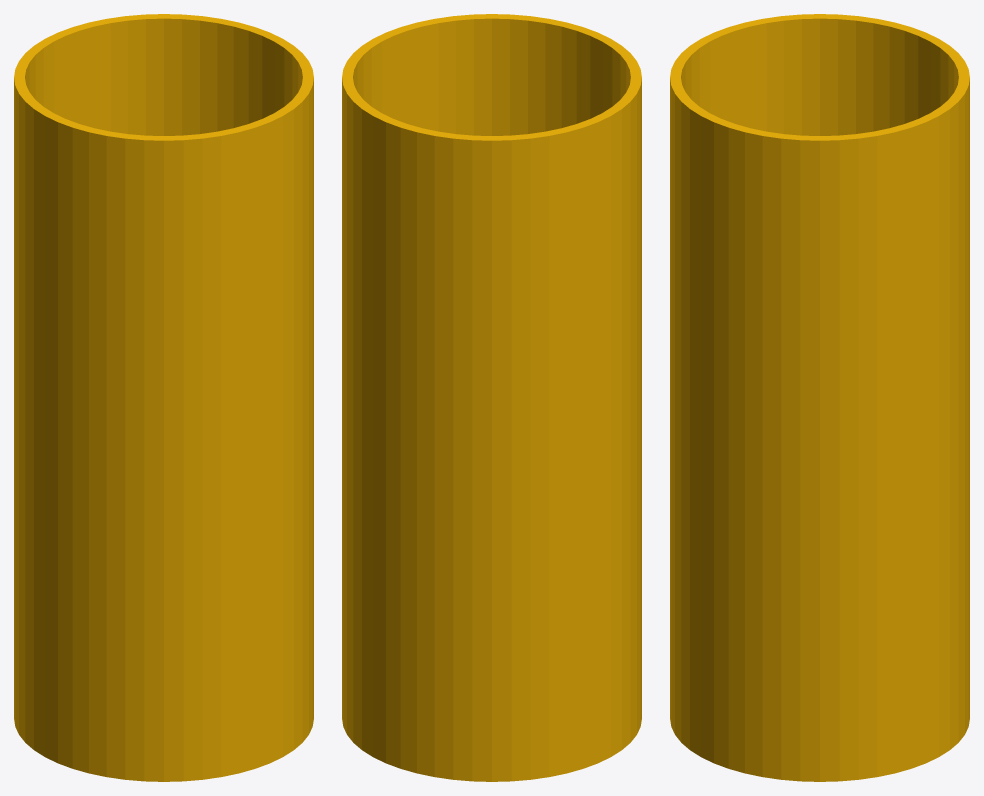
File: gate_pinger.dae
3 renders of one model, left to right at view 1: azimuth 30°, elevation 25°; view 2: azimuth 150°, elevation 25°; view 3: azimuth 270°, elevation 25°, orthographic.
Visible parts, largest first — view 1: node0; view 2: node0; view 3: node0.
Part boxes in pixels (x1=…): node0: x1=14, y1=14, x2=313, y2=781; node0: x1=342, y1=14, x2=641, y2=781; node0: x1=670, y1=14, x2=969, y2=781.
Bounding box in the file's own units: 0.0424 × 0.0424 × 0.1.
